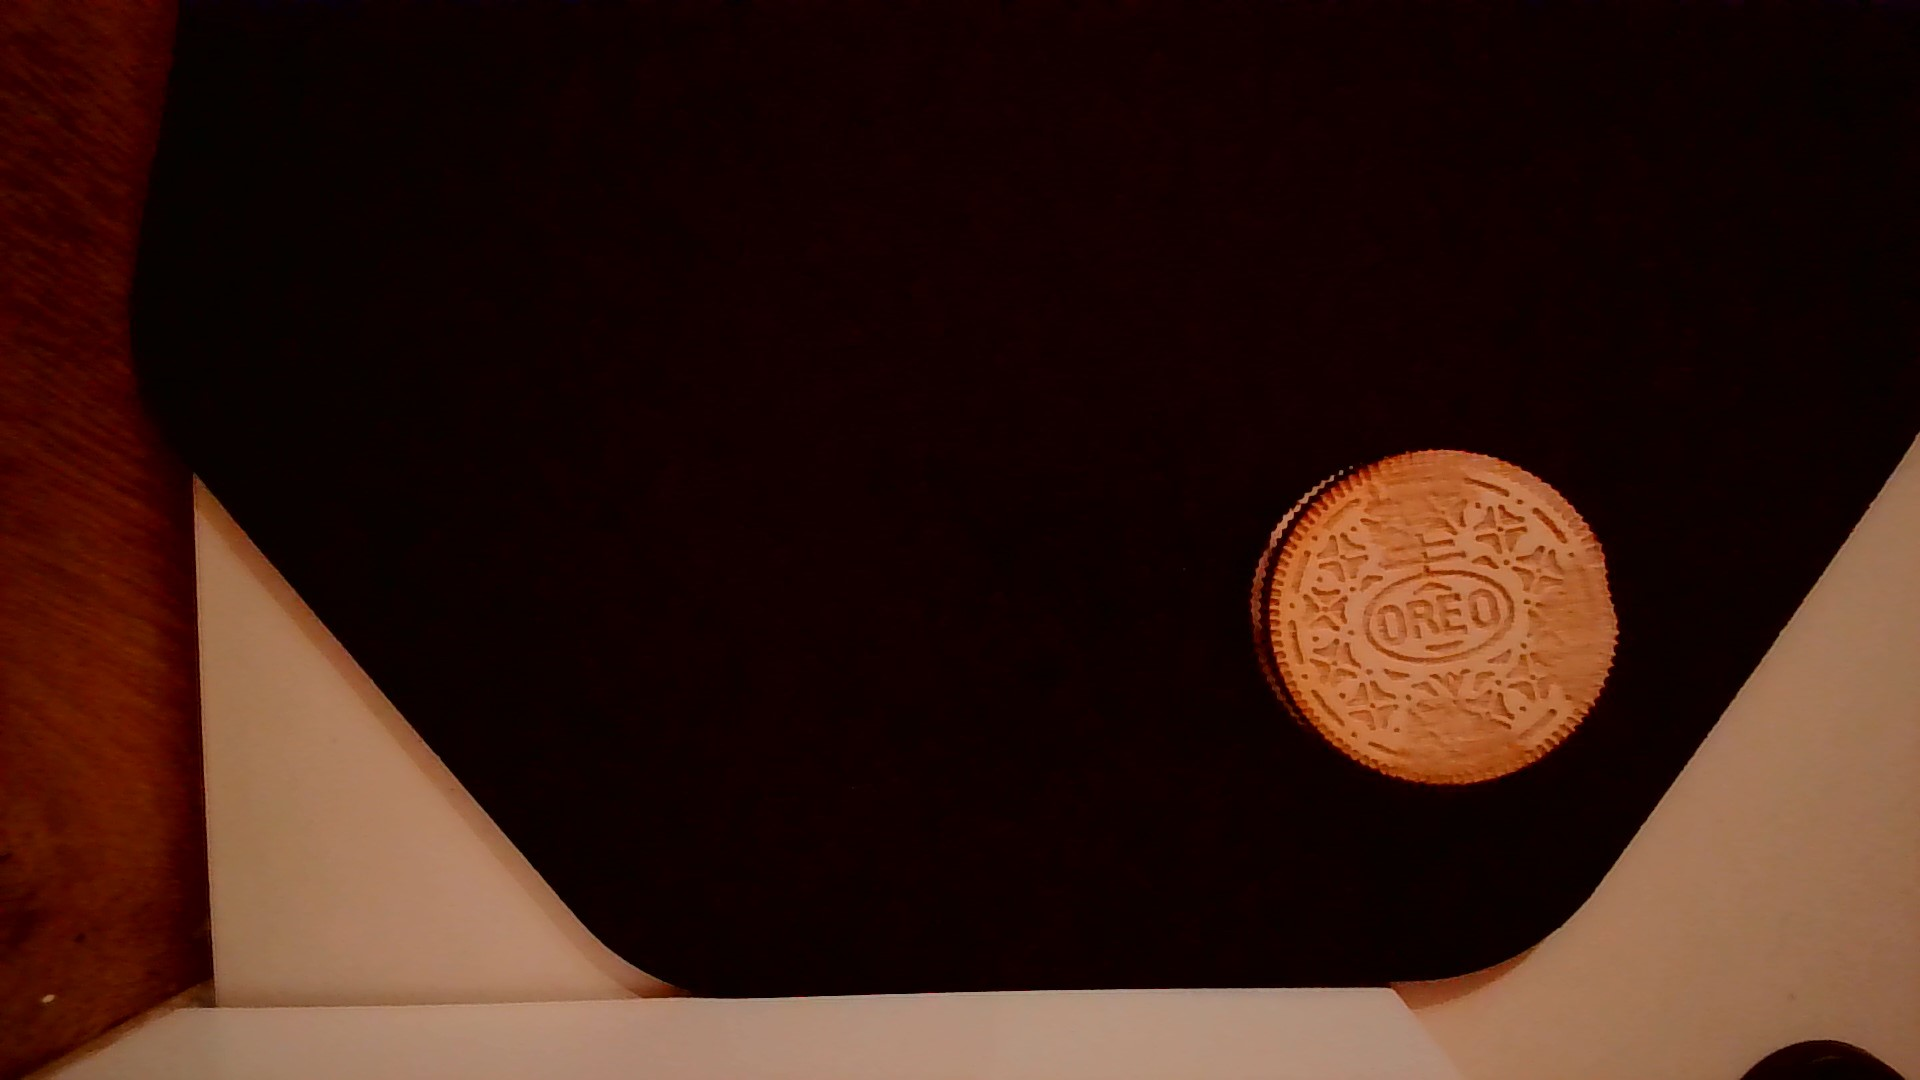Effacé: (1361, 456, 1464, 542), (1545, 554, 1604, 696), (1394, 712, 1516, 771)
Oréo: (1244, 446, 1623, 790)
